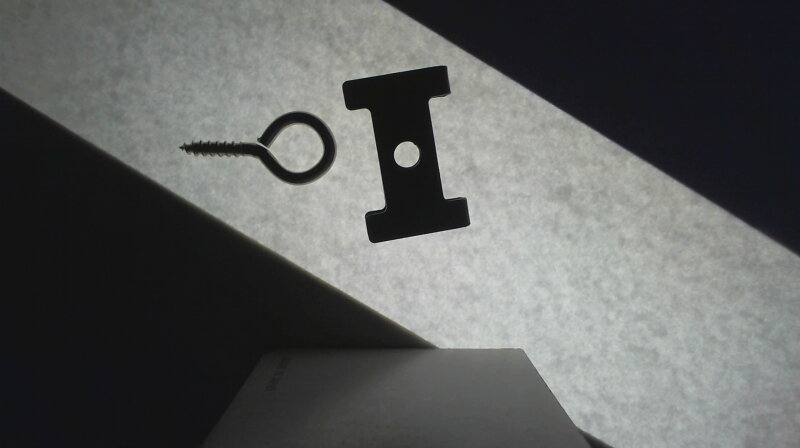O001: (180, 106, 338, 188)
O002: (339, 65, 474, 243)
